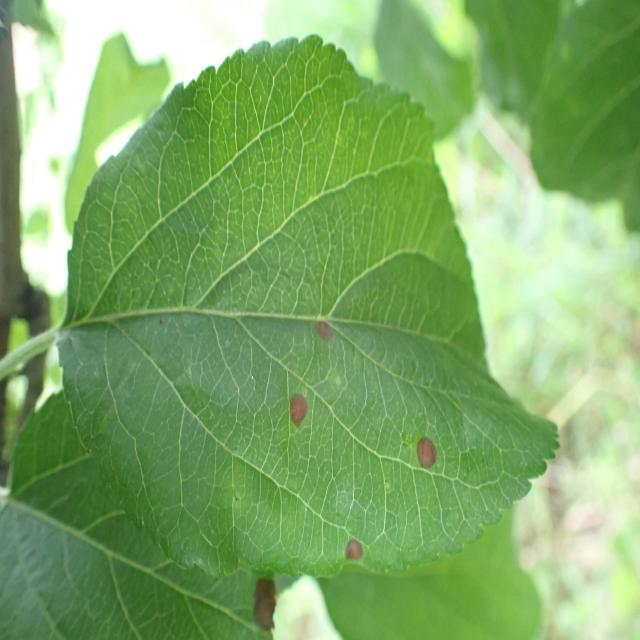Black Rot: (242, 563, 291, 640), (410, 417, 445, 487), (275, 386, 317, 437), (309, 310, 349, 357), (331, 531, 370, 578)
